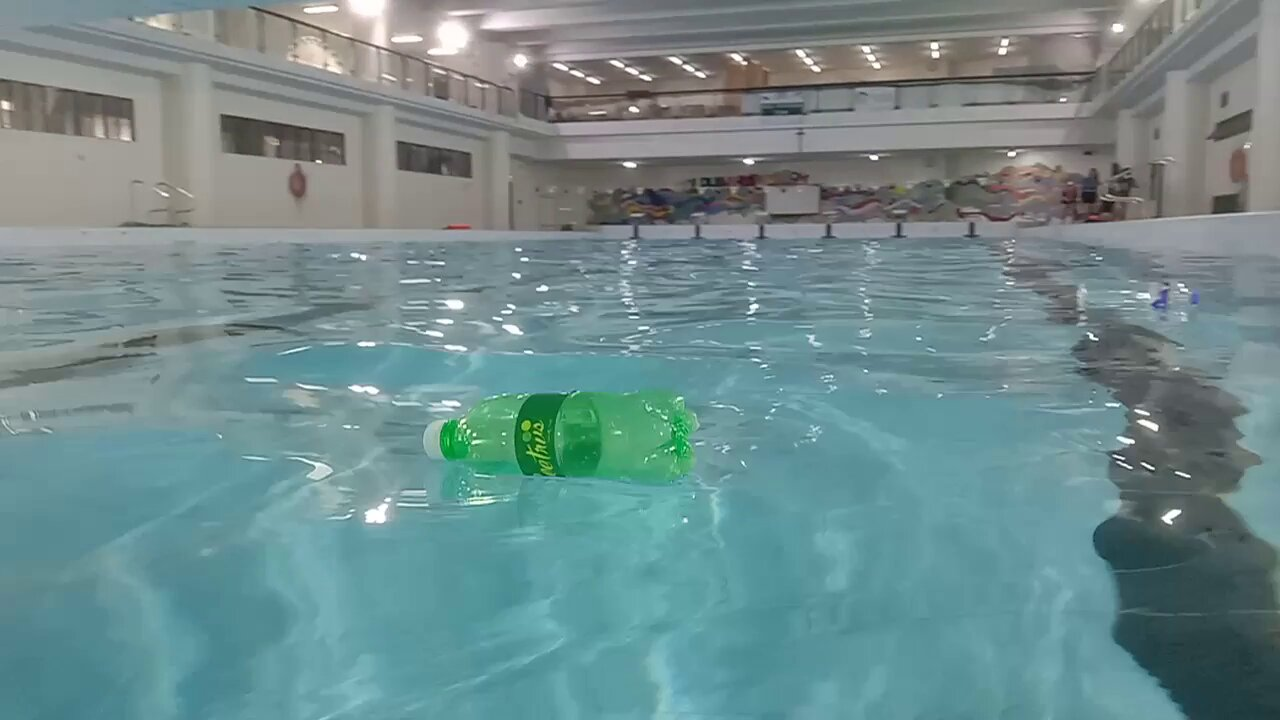plastic_bottle: (423, 393, 700, 484), (1075, 275, 1203, 314)
